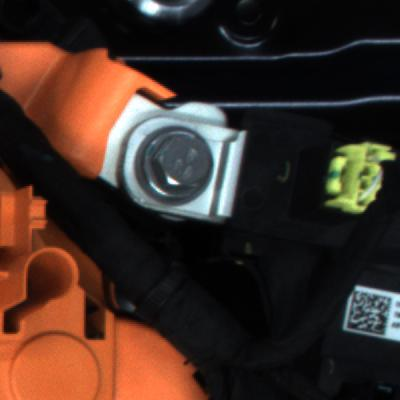nut_b: (132, 121, 240, 216)
